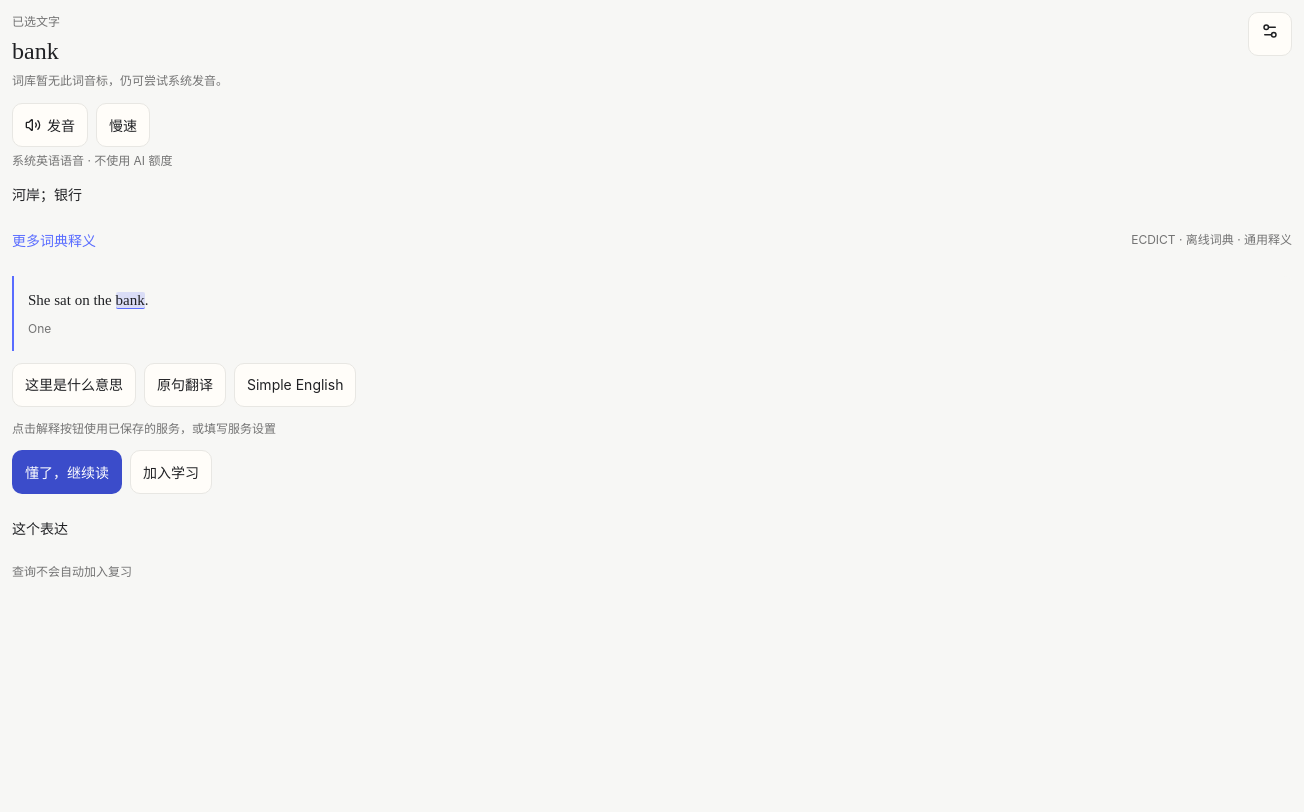
Scenario: failed lookup state writes retain the old state and can be retried
Click the button "加入学习": {"x": 171, "y": 472} 130,450 -> 212,494
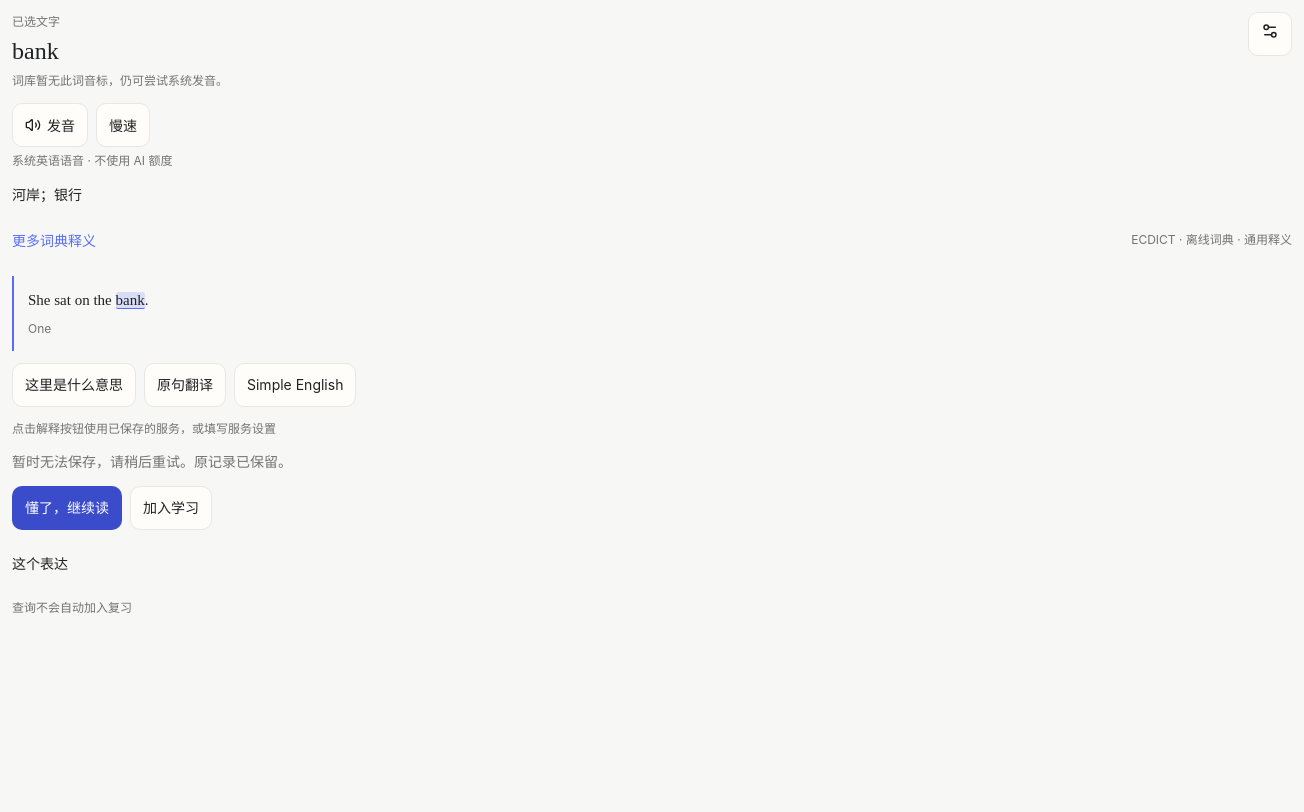
Check: the text "暂时无法保存" is shown, box 12,453 -> 292,470
Click the button "加入学习": {"x": 171, "y": 508} 130,486 -> 212,530
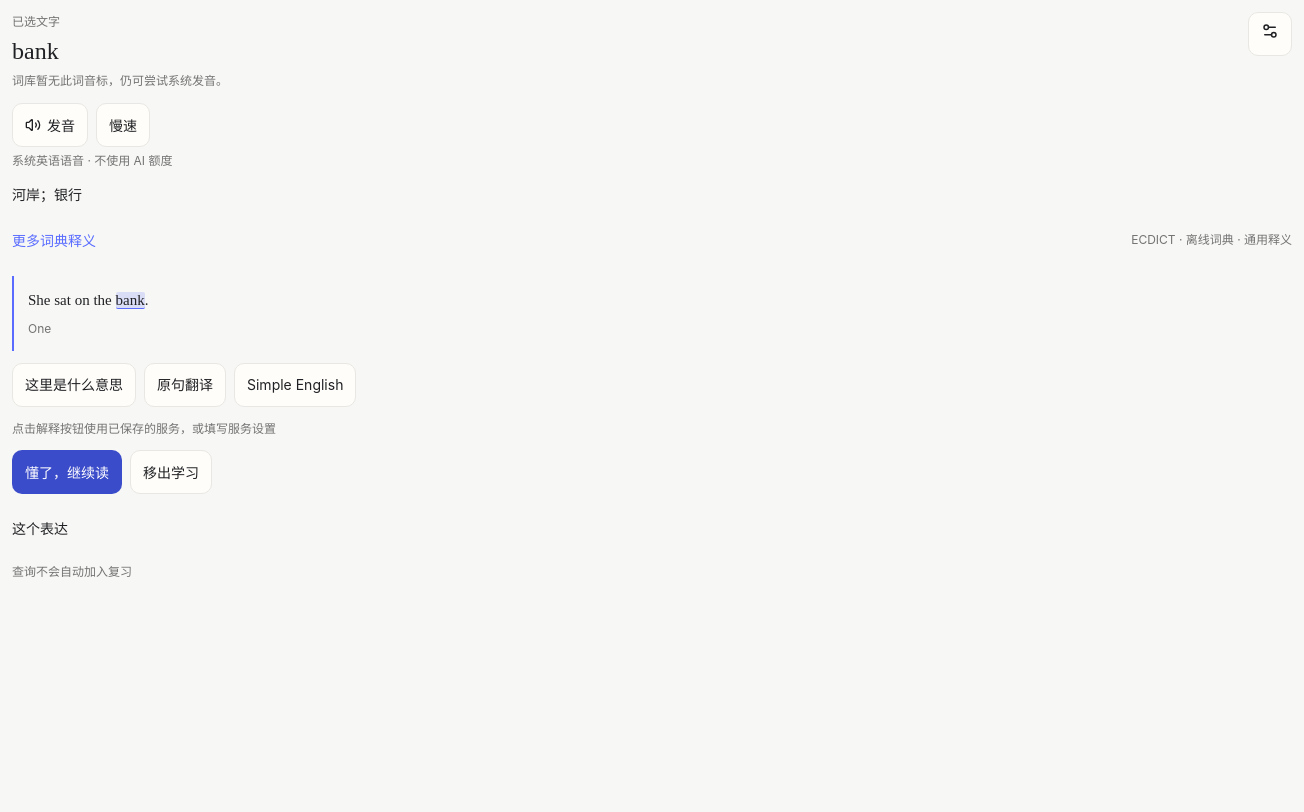
Check: the element with class "learning-actions" shows "移出学习", box 130,450 -> 212,494
